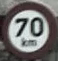Speed limit: (3, 4, 51, 51)
